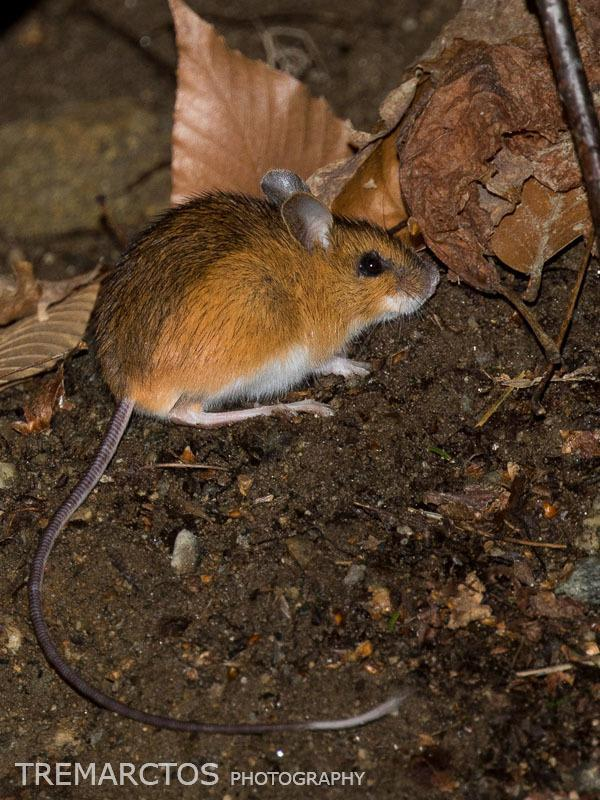rat: (28, 169, 442, 733)
